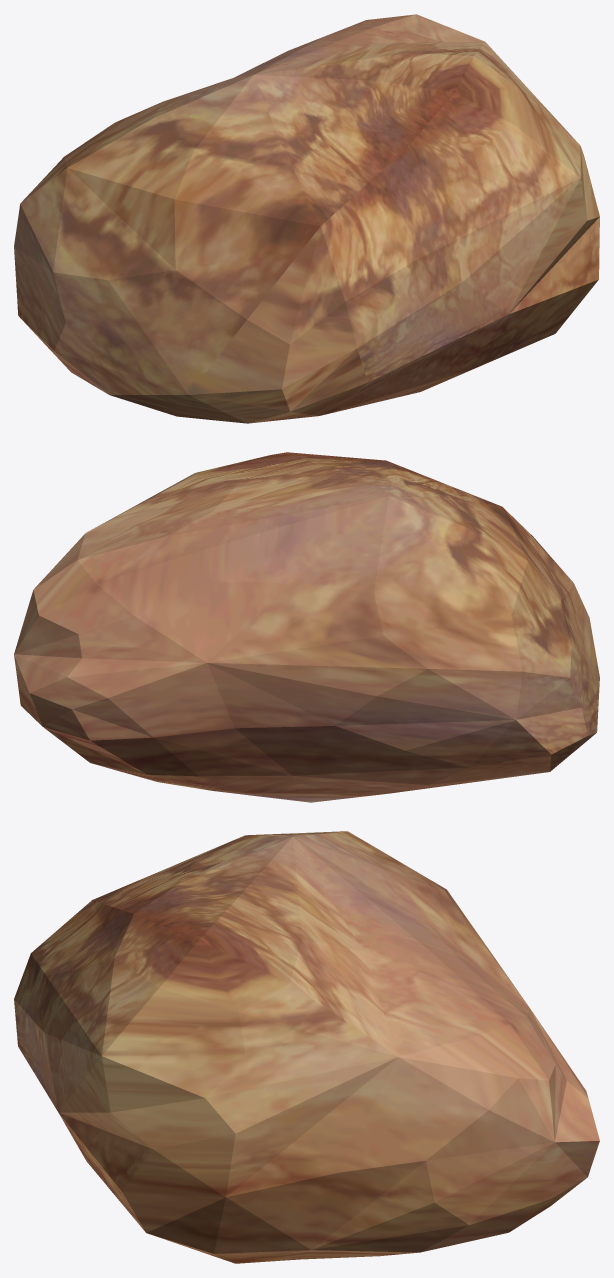
File: C2SNROKA.obj
3 renders of one model, top to bottom at view 1: azimuth 30°, elevation 25°; view 2: azimuth 150°, elevation 25°; view 3: azimuth 270°, elevation 25°, orthographic. The views are drawn at different scales.
Parts seen in each view (by area): view 1: Node 0; view 2: Node 0; view 3: Node 0.
Boxes of the visible parts, x1,y1,x2,y2 form: Node 0: (14, 14, 599, 423); Node 0: (14, 452, 599, 802); Node 0: (14, 831, 599, 1263).
Size of the model in its own units: 7.86 by 4.99 by 7.27.
Materials: 1 (1 with a texture image).
